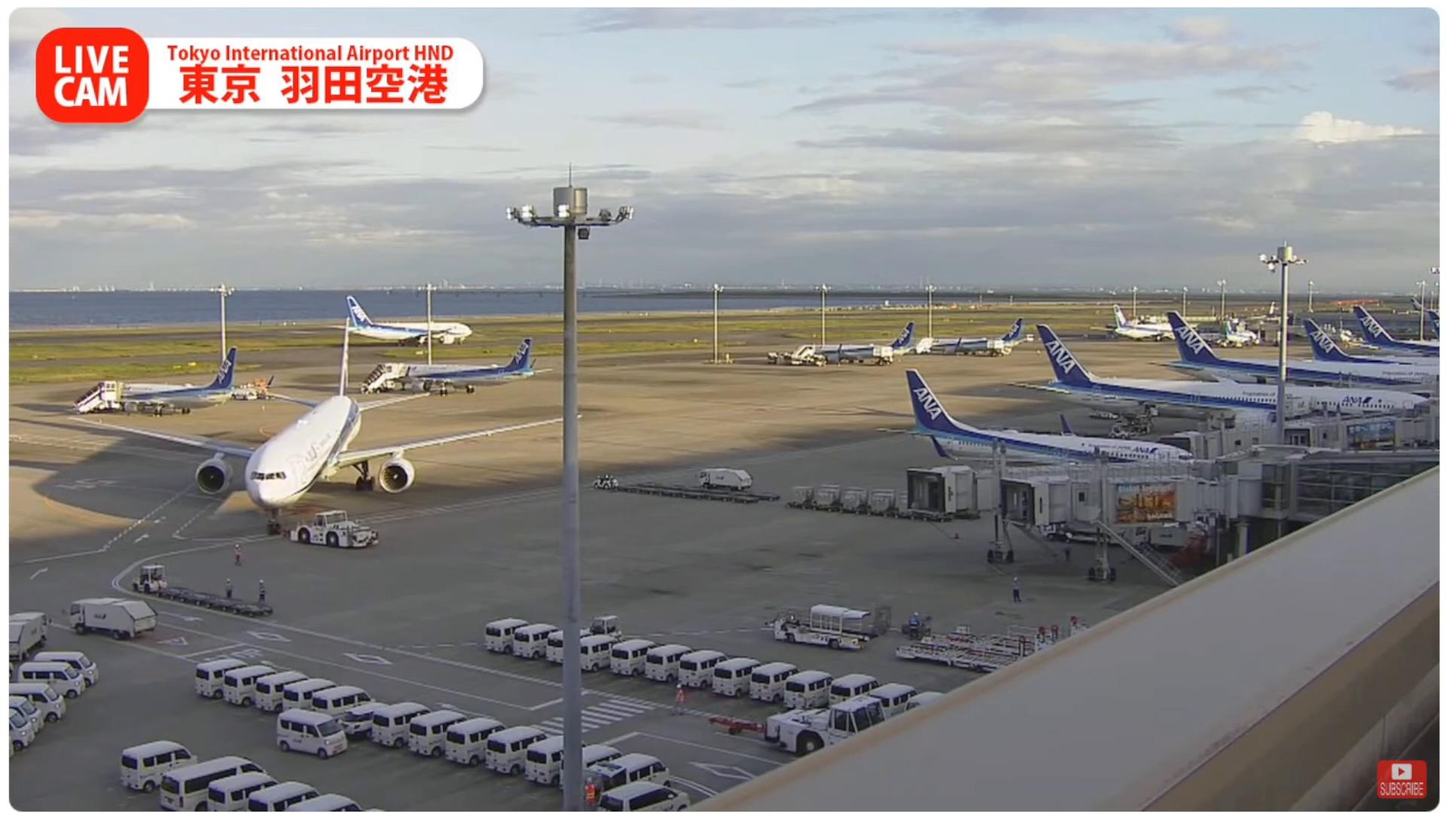APS: (286, 503, 384, 553)
Airplane: (71, 316, 594, 543)
Dolly: (152, 580, 283, 617)
JCPL: (893, 630, 1039, 676)
Skyloader: (774, 600, 879, 655)
Tractor: (134, 564, 168, 598)
